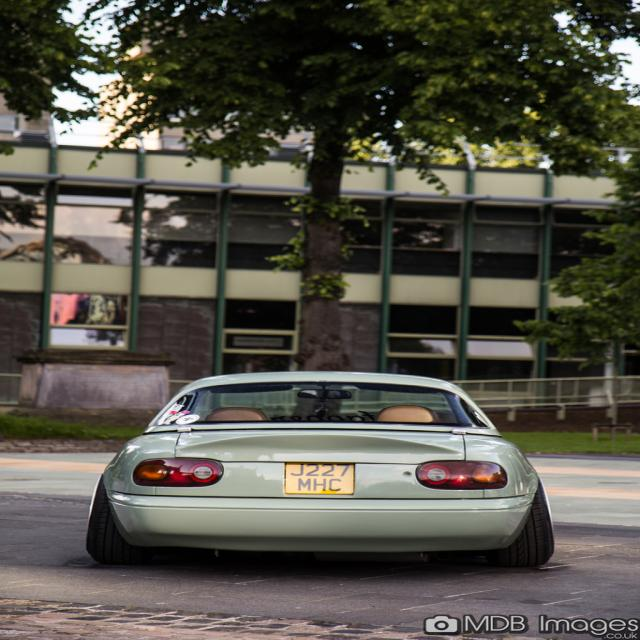car: (85, 364, 553, 570)
